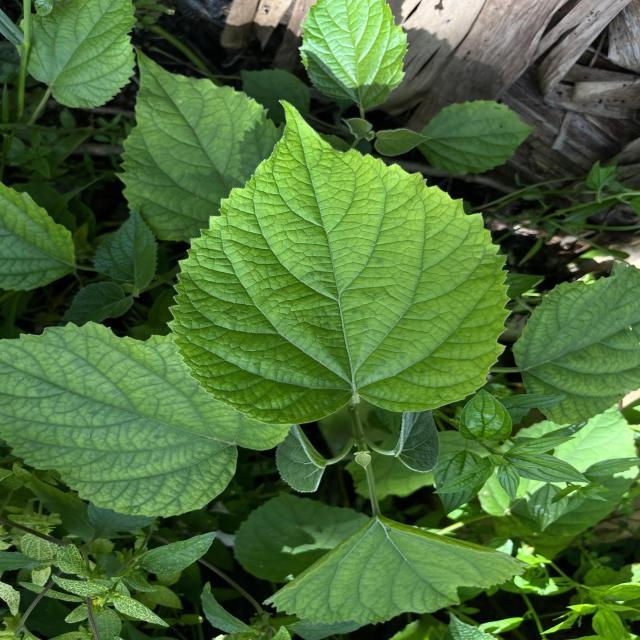Clerodendrum infortunatum: (164, 95, 514, 428), (0, 319, 293, 520), (116, 43, 286, 244), (260, 515, 532, 627), (509, 258, 640, 426)
